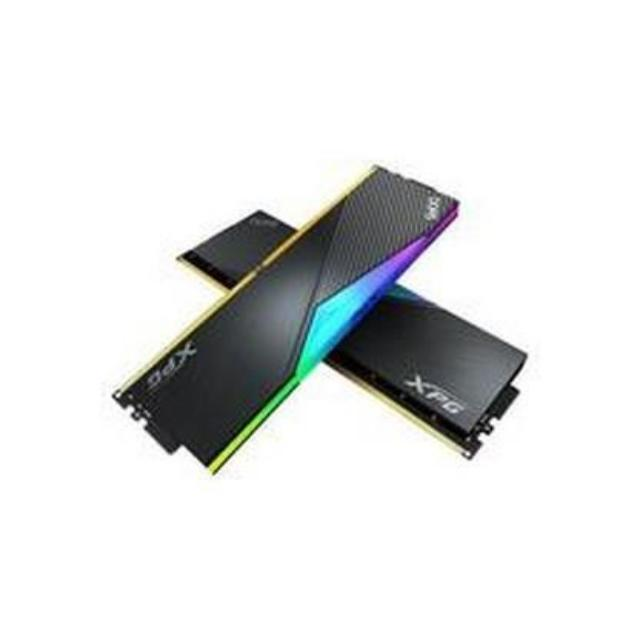RAM: (91, 152, 544, 508)
